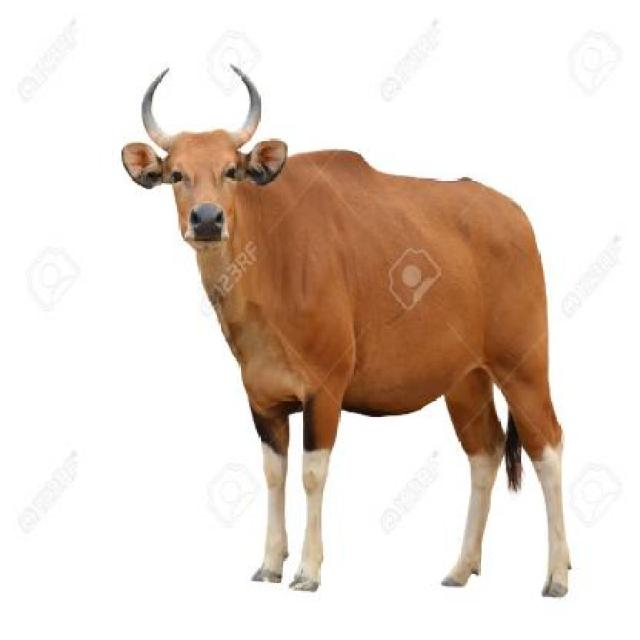Cow: (118, 62, 577, 608)
